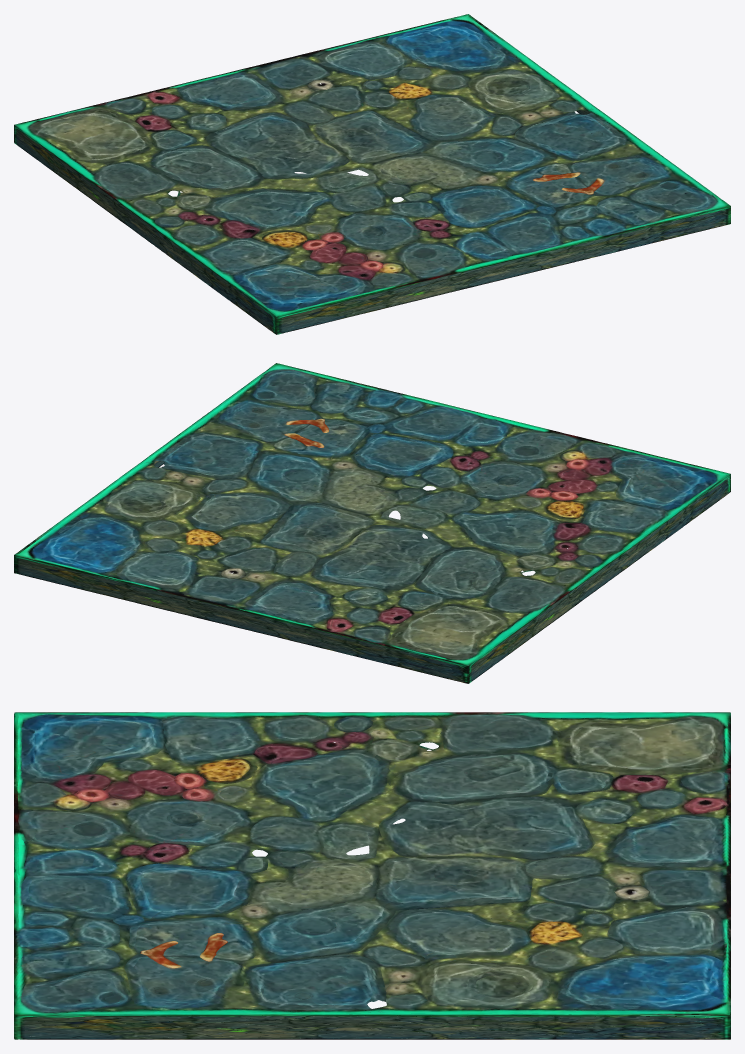
The model's file is OceanFloor_ReefStone_A_UnrealReady.glb.
The picture shows the model from 3 angles, top to bottom: view 1: azimuth 30°, elevation 25°; view 2: azimuth 150°, elevation 25°; view 3: azimuth 270°, elevation 25°; orthographic projection. The views are drawn at different scales.
Visible parts, largest first — view 1: OceanFloor_ReefStone_A_UnrealReady; view 2: OceanFloor_ReefStone_A_UnrealReady; view 3: OceanFloor_ReefStone_A_UnrealReady.
Boxes of the visible parts, box(x1,y1,x2,y2) form: OceanFloor_ReefStone_A_UnrealReady: box(14, 14, 730, 334); OceanFloor_ReefStone_A_UnrealReady: box(14, 363, 730, 683); OceanFloor_ReefStone_A_UnrealReady: box(14, 712, 730, 1039).
Bounding box in the file's own units: 6 × 0.24 × 6.
1 material, 1 textured.
